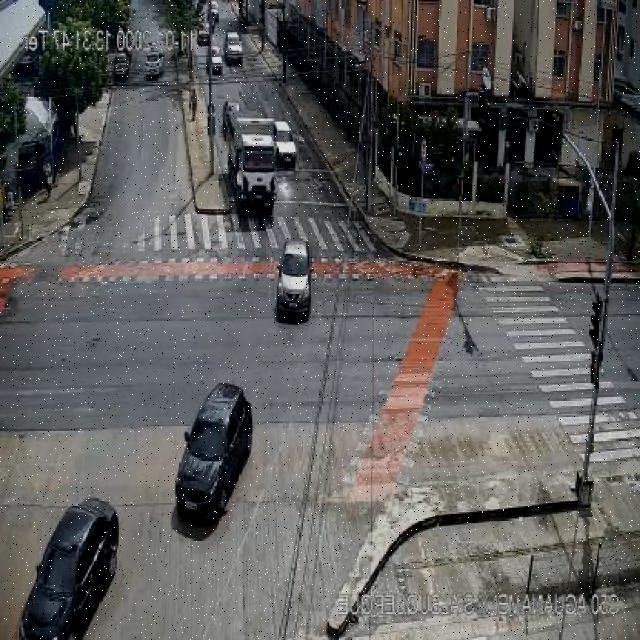Car: (20, 498, 120, 640), (175, 382, 254, 523), (273, 236, 314, 314), (272, 121, 296, 168), (613, 79, 639, 115), (144, 49, 164, 78), (225, 32, 243, 64), (113, 52, 130, 81), (207, 46, 224, 74), (224, 99, 239, 128), (196, 20, 212, 44), (208, 0, 221, 21)
Truck: (225, 109, 278, 216)
